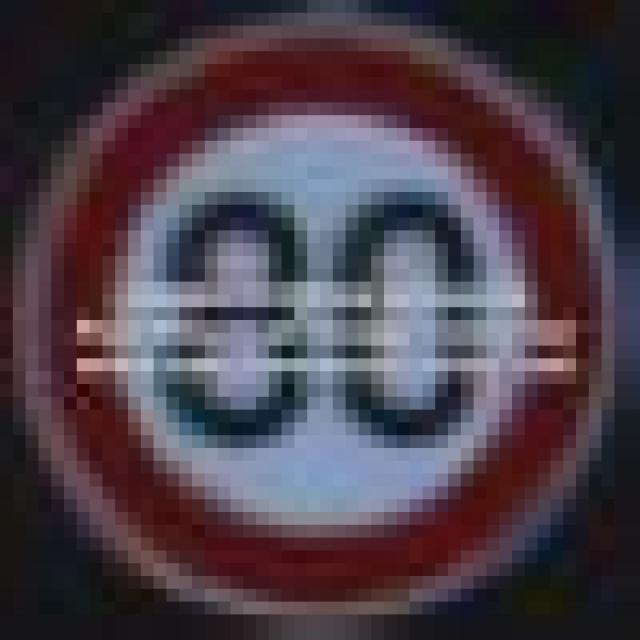SPEED_LIMIT_80: (39, 26, 602, 588)
